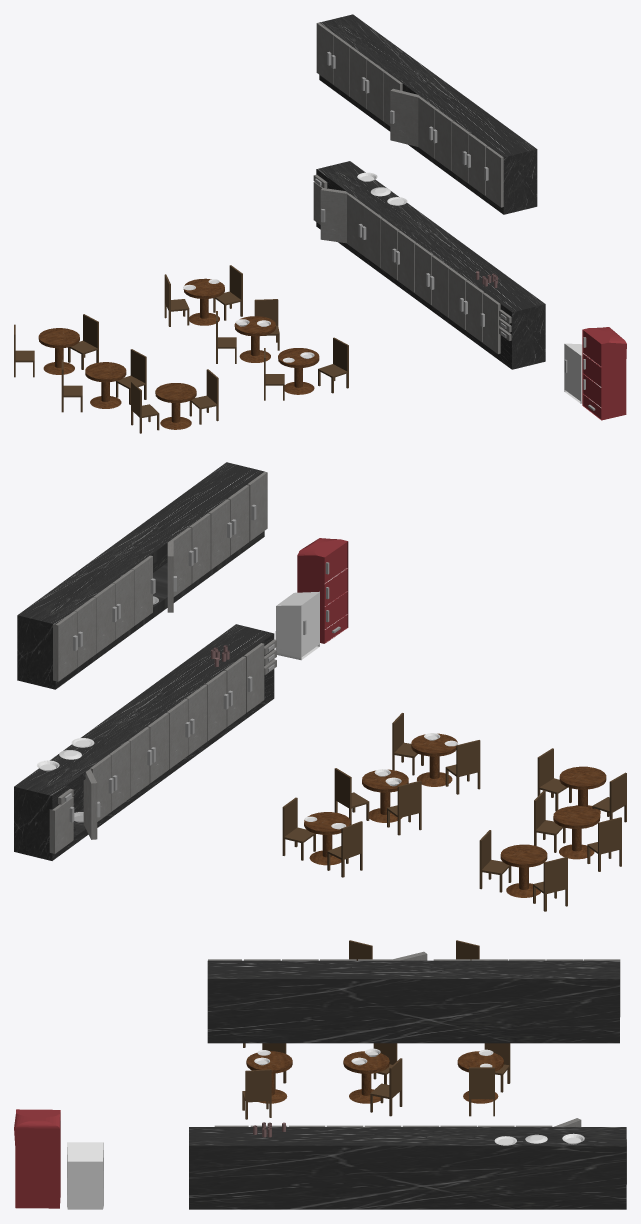
Rendered from kitchen with texture 26 match 2023.fbx.
The picture shows the model from 3 angles, top to bottom: view 1: azimuth 30°, elevation 25°; view 2: azimuth 150°, elevation 25°; view 3: azimuth 270°, elevation 25°; orthographic projection. The views are drawn at different scales.
Visible parts, largest first — view 1: kitchen_counter_at_the_bottom, top_desk_with_1_plate, fridge, table, freezer, polySurface160, polySurface150, polySurface82, polySurface143, polySurface161, polySurface145, polySurface166 (+5 smaller); view 2: kitchen_counter_at_the_bottom, top_desk_with_1_plate, fridge, freezer, table, polySurface163, polySurface155, polySurface142, polySurface80, polySurface147, polySurface143, polySurface161 (+10 smaller); view 3: kitchen_counter_at_the_bottom, top_desk_with_1_plate, fridge, freezer, polySurface160, polySurface143, polySurface154, polySurface156, polySurface162, polySurface151, polySurface147, plate_on_the_table (+4 smaller).
Boxes of the visible parts, x1,y1,x2,y2 form: kitchen_counter_at_the_bottom: (313, 161, 545, 369); top_desk_with_1_plate: (316, 14, 537, 214); fridge: (582, 327, 626, 420); table: (85, 362, 126, 408); freezer: (564, 343, 582, 403); polySurface160: (318, 337, 348, 393); polySurface150: (68, 314, 98, 369); polySurface82: (116, 349, 146, 404); polySurface143: (213, 265, 242, 320); polySurface161: (189, 369, 218, 424); polySurface145: (38, 328, 79, 348); polySurface166: (155, 383, 196, 402); kitchen_counter_at_the_bottom: (14, 624, 276, 860); top_desk_with_1_plate: (17, 462, 267, 689); fridge: (297, 538, 348, 643); freezer: (275, 591, 319, 660); table: (553, 806, 600, 859); polySurface163: (445, 740, 480, 794); polySurface155: (387, 780, 421, 835); polySurface142: (533, 857, 567, 911); polySurface80: (587, 817, 621, 871); polySurface147: (327, 821, 362, 877); polySurface143: (282, 797, 315, 860); polySurface161: (537, 748, 571, 811); kitchen_counter_at_the_bottom: (189, 1118, 626, 1209); top_desk_with_1_plate: (207, 951, 620, 1043); fridge: (14, 1109, 60, 1208); freezer: (67, 1142, 103, 1209); polySurface160: (242, 1069, 271, 1119); polySurface143: (469, 1067, 494, 1116); polySurface154: (370, 1058, 402, 1116); polySurface156: (343, 1051, 389, 1073); polySurface162: (246, 1051, 292, 1073); polySurface151: (457, 1051, 503, 1072); polySurface147: (484, 1043, 510, 1092); plate_on_the_table: (494, 1133, 584, 1145).
Size of the model in its own units: 19371 by 9319 by 22109.
